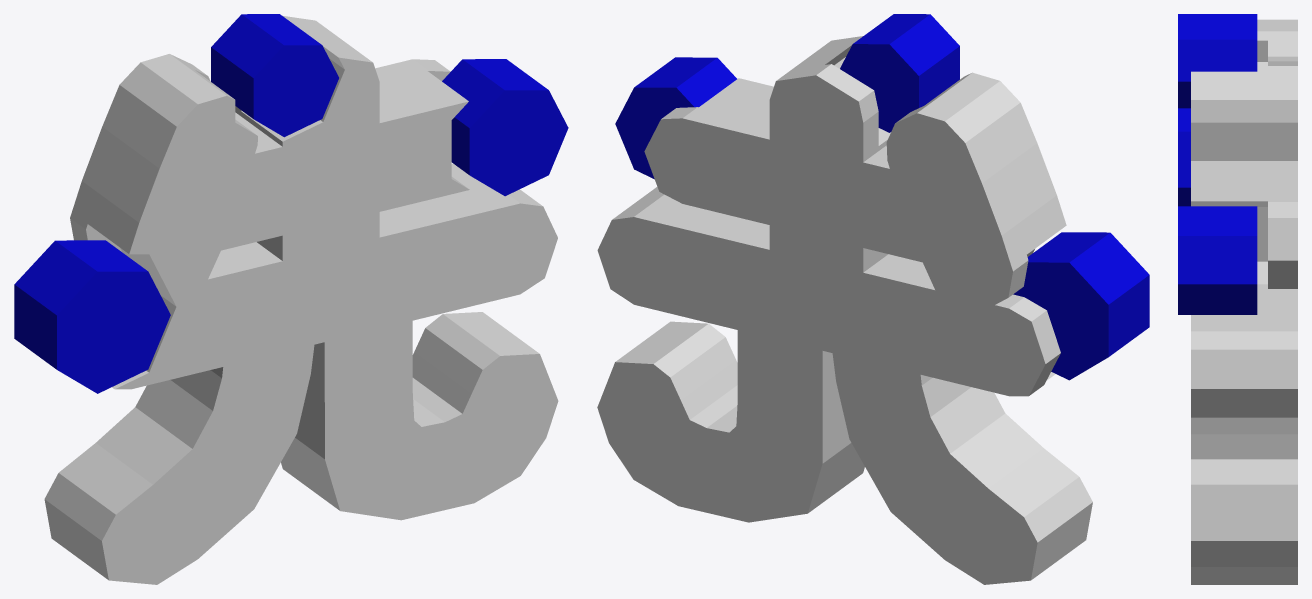
Rendered from Ch_Lite_China_先_01.fbx.
The picture shows the model from 3 angles, left to right: view 1: azimuth 30°, elevation 25°; view 2: azimuth 150°, elevation 25°; view 3: azimuth 270°, elevation 25°; orthographic projection. The views are drawn at different scales.
Visible parts, largest first — view 1: sphere1; view 2: sphere1; view 3: sphere1.
Part boxes in pixels (box(x1,y1,x2,y2)): sphere1: box(14, 14, 568, 584); sphere1: box(597, 14, 1149, 584); sphere1: box(1178, 14, 1297, 584).
Size of the model in its own units: 1.03 by 0.9907 by 0.2242.
